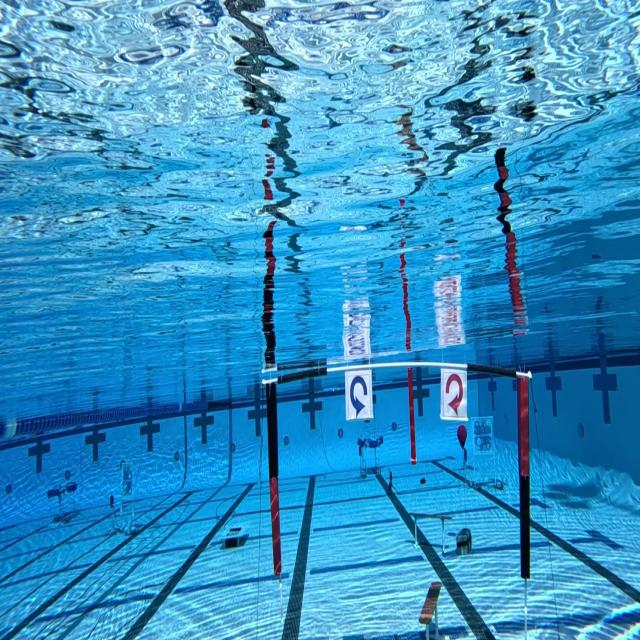blue_side: (344, 372, 377, 427)
red_side: (437, 366, 473, 425)
